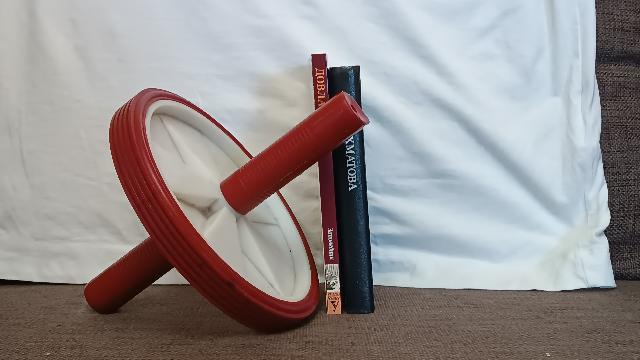book-s-spine: (328, 66, 375, 315), (311, 54, 342, 316)
